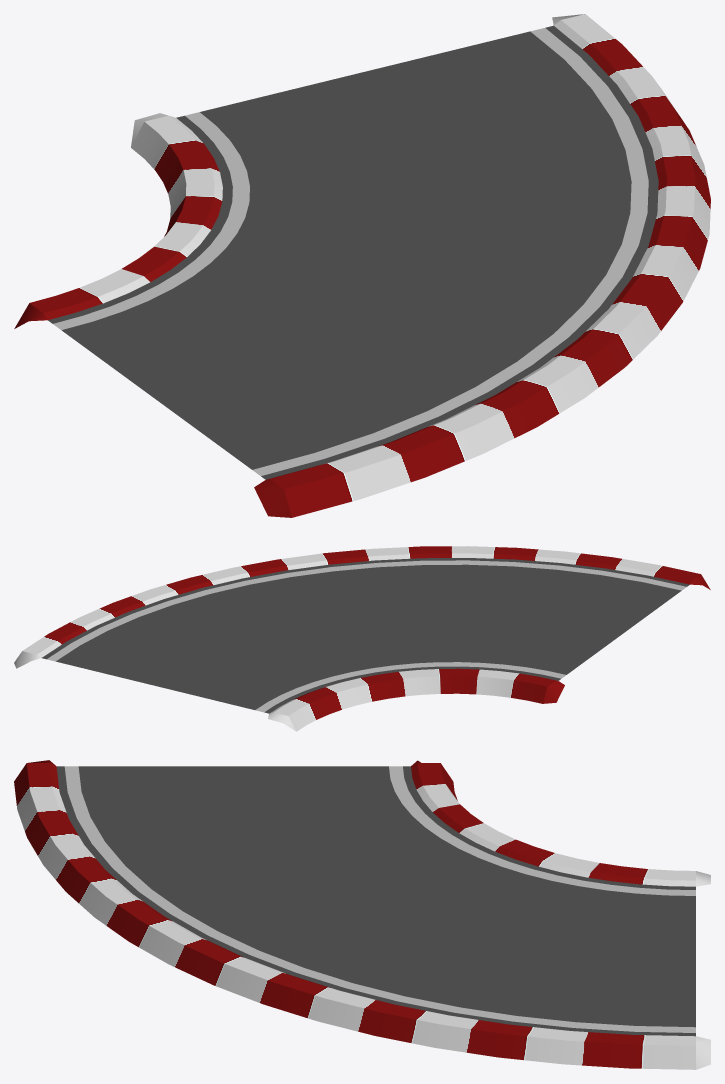
File: Track_left_Mid.FBX
3 views of the same model, one above another, from view 1: azimuth 30°, elevation 25°; view 2: azimuth 150°, elevation 25°; view 3: azimuth 270°, elevation 25° (orthographic). The views are drawn at different scales.
Parts seen in each view (by area): view 1: Track_left_Mid, Track_left_Mid_Apex_Right, Track_left_Mid_Apex_Left; view 2: Track_left_Mid, Track_left_Mid_Apex_Right, Track_left_Mid_Apex_Left; view 3: Track_left_Mid, Track_left_Mid_Apex_Right, Track_left_Mid_Apex_Left.
Part boxes in pixels (<box>): Track_left_Mid: <box>48,25,658,479</box>; Track_left_Mid_Apex_Right: <box>254,14,710,517</box>; Track_left_Mid_Apex_Left: <box>14,113,222,328</box>; Track_left_Mid: <box>42,558,689,713</box>; Track_left_Mid_Apex_Right: <box>14,546,710,668</box>; Track_left_Mid_Apex_Left: <box>268,668,564,731</box>; Track_left_Mid: <box>56,766,695,1036</box>; Track_left_Mid_Apex_Right: <box>14,760,710,1069</box>; Track_left_Mid_Apex_Left: <box>411,760,710,886</box>.
Size of the model in its own units: 1634 by 48.07 by 1634.
1 material, 1 textured.
